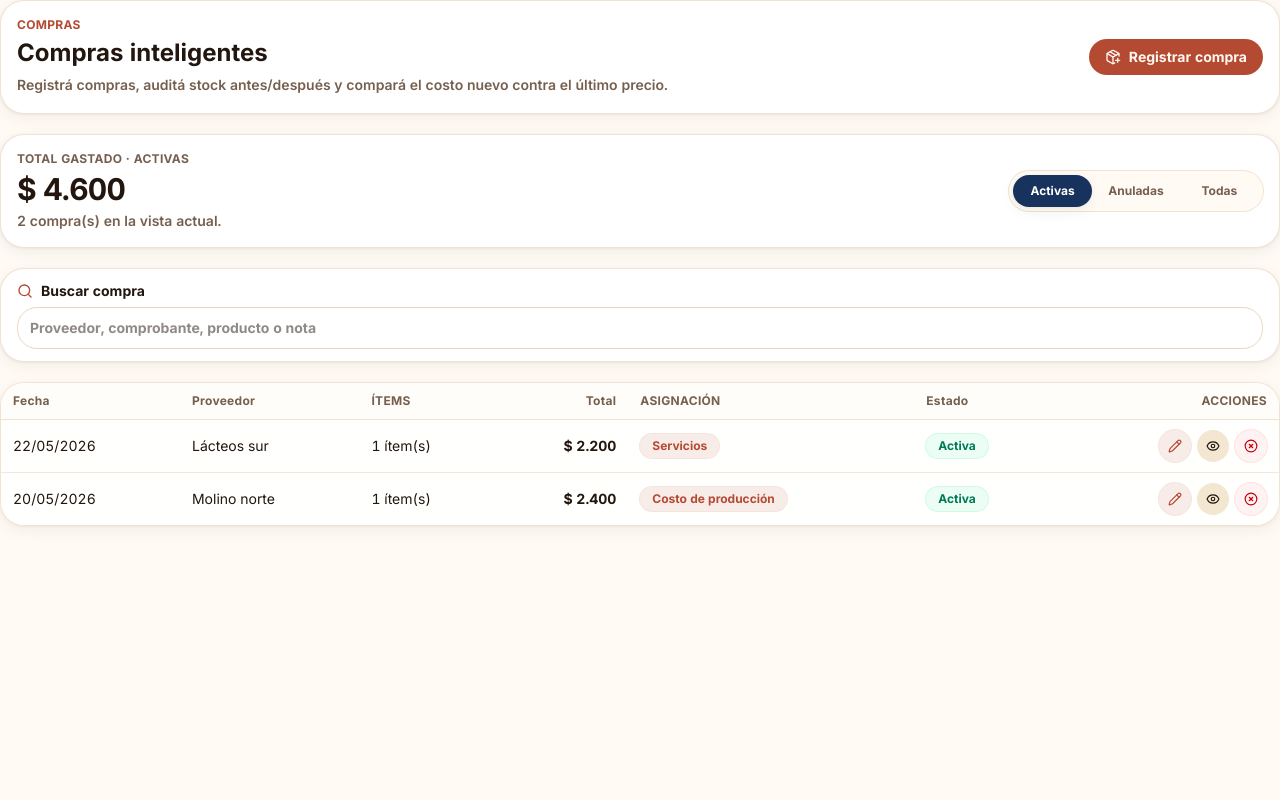
Scenario: FinancePurchases › opens purchase details in a side sheet with supplier, receipt, stock, and price delta details
Click the button named "ver detalle de compra molino norte". click: click(1213, 499)
box: [1197, 483, 1229, 515]
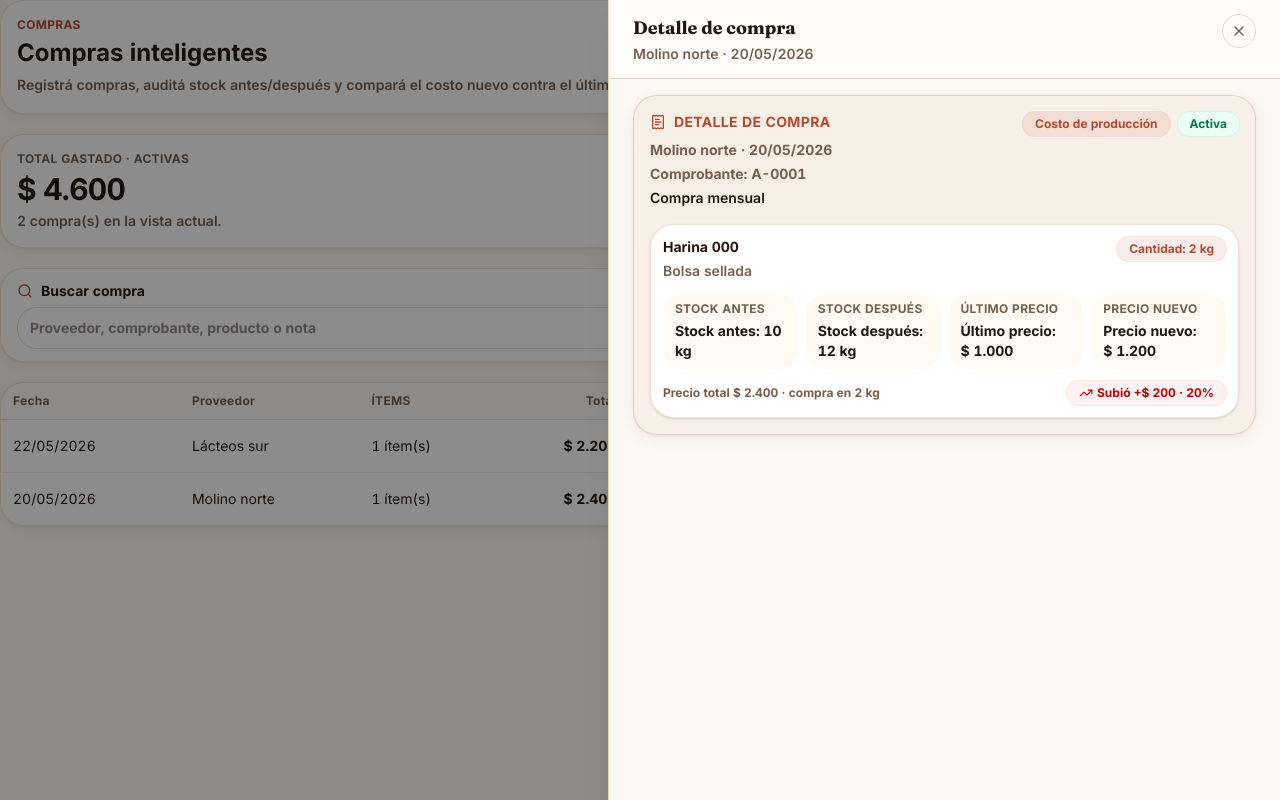
Check: the text "Comprobante: A-0001" is shown, box [650, 164, 832, 184]
Check: the text "Compra mensual" is shown, box [650, 189, 765, 206]
Check: the text "Harina 000" is shown, box [663, 237, 752, 257]
Click the button named "cerrar detalle de compra". click: click(1239, 31)
box: [1222, 14, 1256, 48]
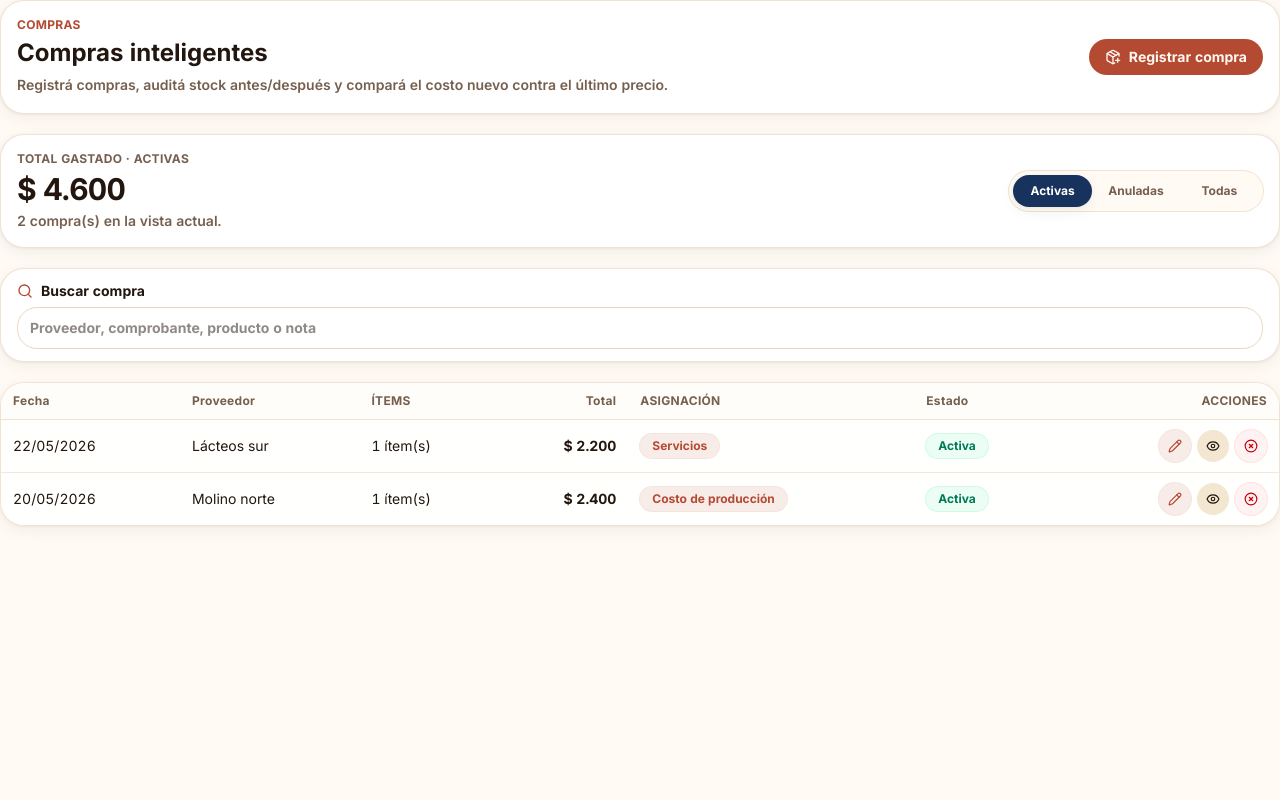
Check: the heading "Detalle de compra" is gone
